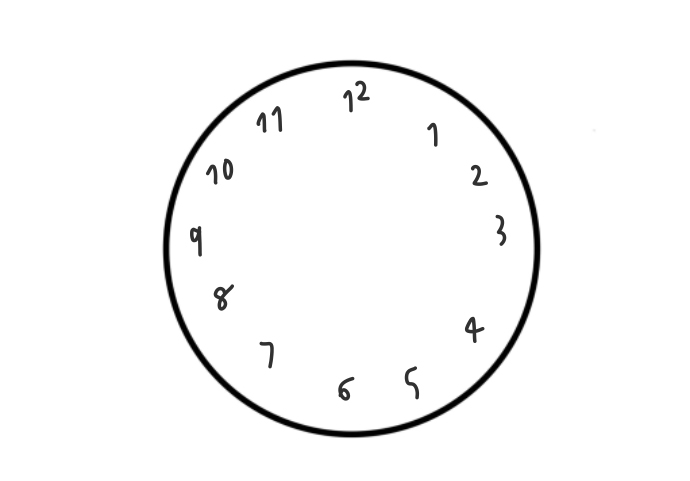eight: (211, 282, 237, 317)
eleven: (253, 104, 286, 135)
five: (400, 363, 429, 408)
four: (464, 313, 488, 345)
nine: (186, 222, 213, 262)
one: (424, 119, 445, 149)
seven: (256, 338, 279, 373)
six: (334, 371, 356, 404)
ten: (201, 158, 239, 187)
three: (493, 211, 509, 248)
twelve: (339, 79, 375, 116)
two: (469, 161, 492, 188)
